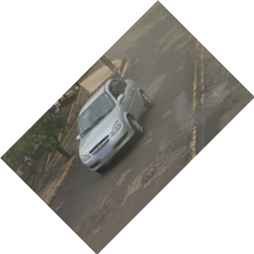car: (72, 77, 154, 180)
